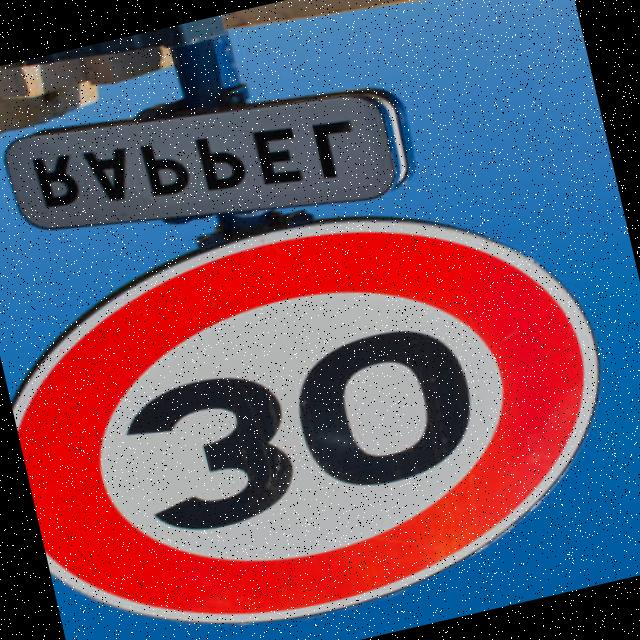speed_limit_30: (0, 162, 639, 640)
